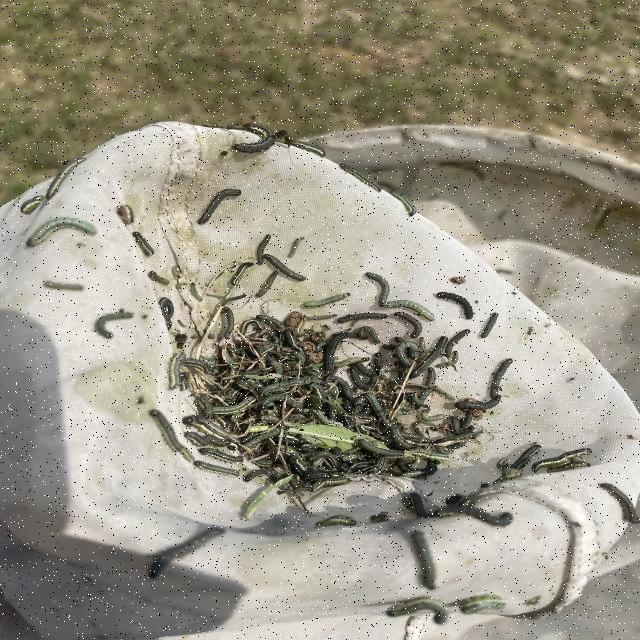army worm: (150, 313, 538, 547), (225, 219, 342, 293), (299, 259, 417, 327), (209, 115, 312, 176), (173, 176, 270, 236)
